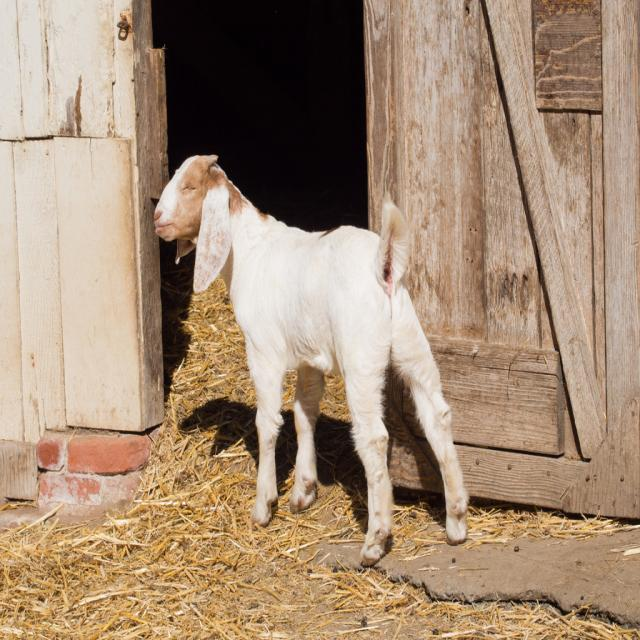Goat: (151, 156, 471, 570)
